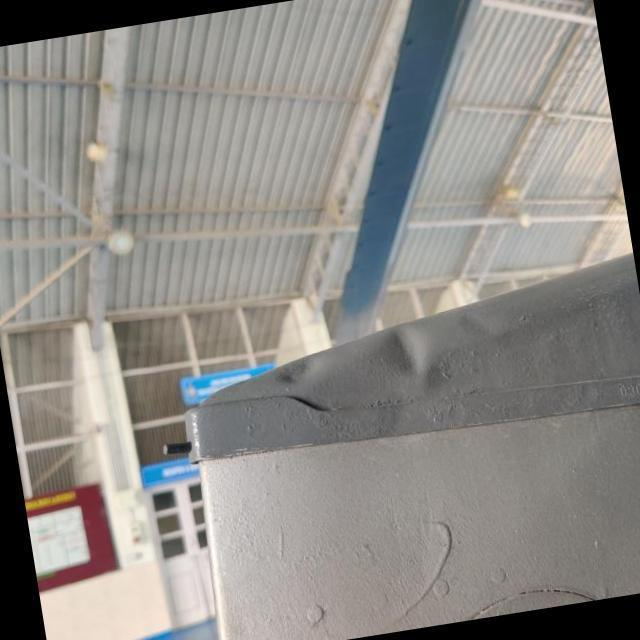Dent: (372, 316, 438, 389), (269, 348, 326, 394)
